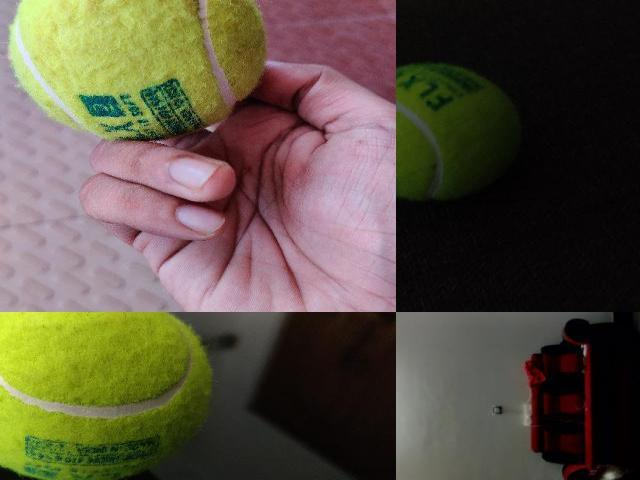tennis-ball: (7, 0, 269, 142), (0, 312, 213, 479), (396, 62, 524, 201)
